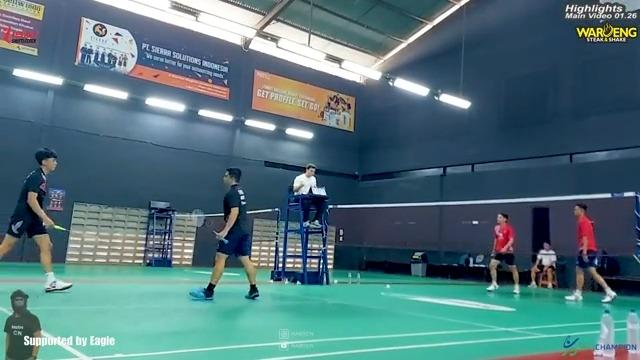Shuttlecock: (385, 283, 391, 289)
